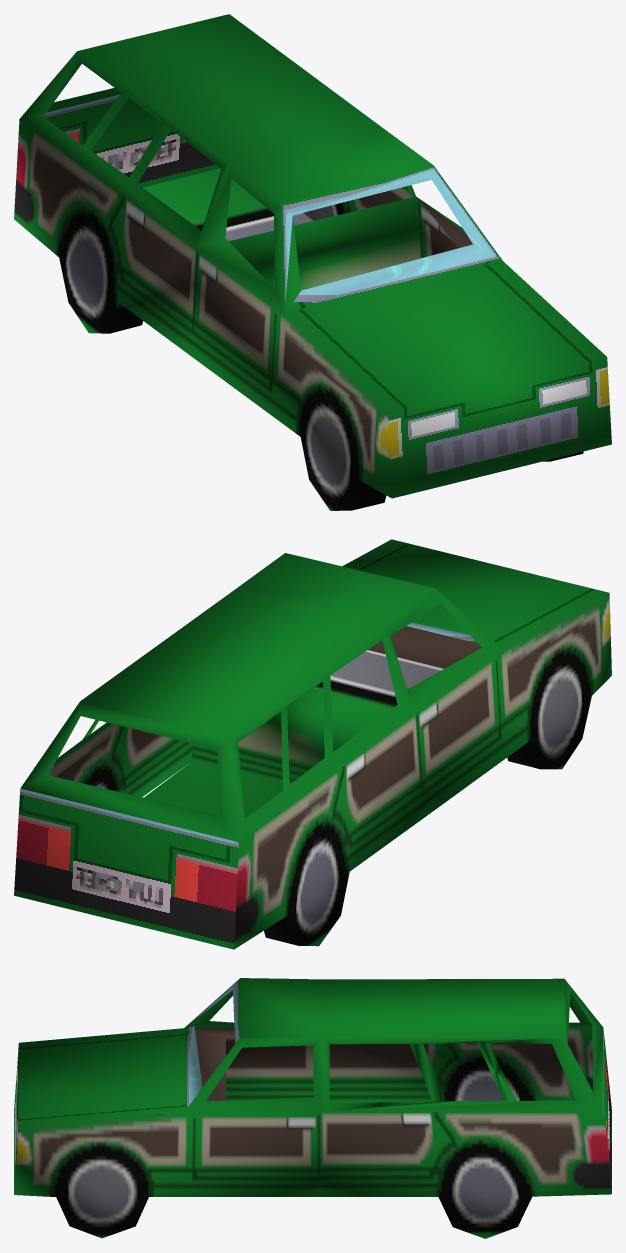
The model's file is chefcar.obj.
3 renders of one model, top to bottom at view 1: azimuth 30°, elevation 25°; view 2: azimuth 150°, elevation 25°; view 3: azimuth 270°, elevation 25°, orthographic. The views are drawn at different scales.
Parts seen in each view (by area): view 1: DrawCall_36, DrawCall_38, DrawCall_39, DrawCall_48, DrawCall_50; view 2: DrawCall_38, DrawCall_39, DrawCall_36, DrawCall_48, DrawCall_50; view 3: DrawCall_38, DrawCall_39, DrawCall_36, DrawCall_50, DrawCall_48.
Part boxes in pixels (bbox=[...]): DrawCall_36: bbox=[20, 51, 611, 498]; DrawCall_38: bbox=[77, 14, 583, 510]; DrawCall_39: bbox=[14, 119, 472, 355]; DrawCall_48: bbox=[43, 94, 220, 187]; DrawCall_50: bbox=[196, 163, 465, 314]; DrawCall_38: bbox=[80, 553, 611, 818]; DrawCall_39: bbox=[48, 626, 481, 949]; DrawCall_36: bbox=[20, 539, 609, 841]; DrawCall_48: bbox=[14, 788, 239, 949]; DrawCall_50: bbox=[382, 589, 504, 714]; DrawCall_38: bbox=[14, 978, 564, 1238]; DrawCall_39: bbox=[195, 1027, 611, 1238]; DrawCall_36: bbox=[14, 978, 603, 1193]; DrawCall_50: bbox=[184, 990, 322, 1112]; DrawCall_48: bbox=[603, 1028, 611, 1192].
Size of the model in its own units: 16.44 by 15.85 by 46.06.
Materials: 5 (5 with a texture image).
